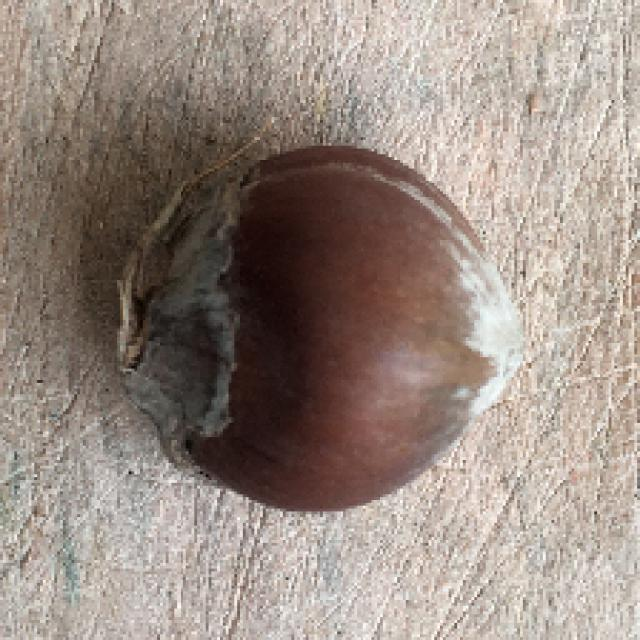damagedHazelnut: (110, 135, 549, 522)
